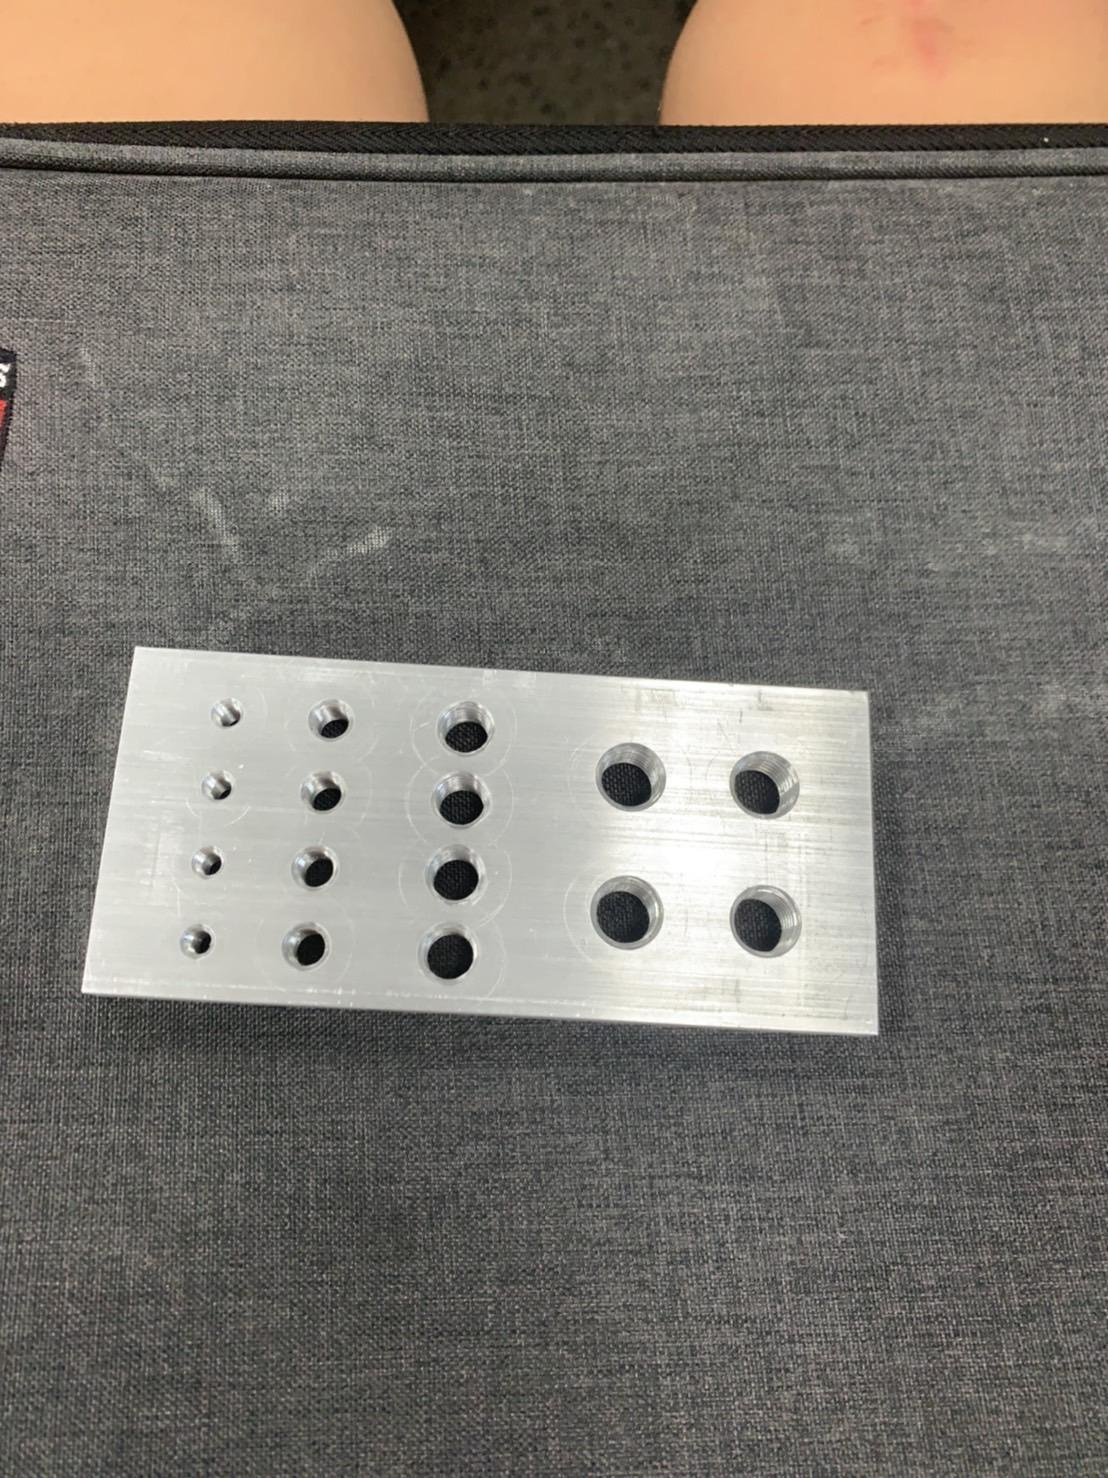hole: (581, 867, 670, 957), (729, 875, 807, 964), (724, 744, 803, 829), (590, 740, 674, 817), (435, 696, 495, 758), (426, 851, 489, 908), (429, 773, 491, 827), (421, 925, 478, 982), (280, 919, 333, 973), (298, 768, 348, 813), (291, 841, 339, 888), (306, 697, 357, 740), (177, 921, 219, 961), (209, 695, 244, 734), (191, 844, 228, 880), (203, 769, 241, 803)
